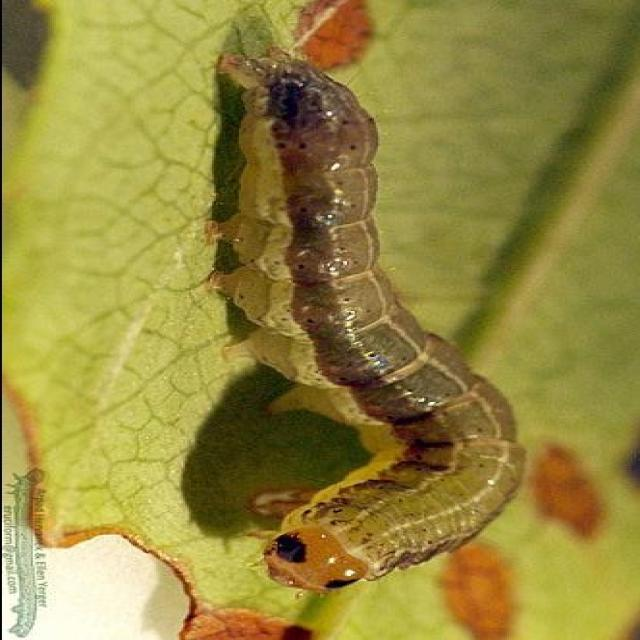black cutworm: (226, 60, 536, 610)
